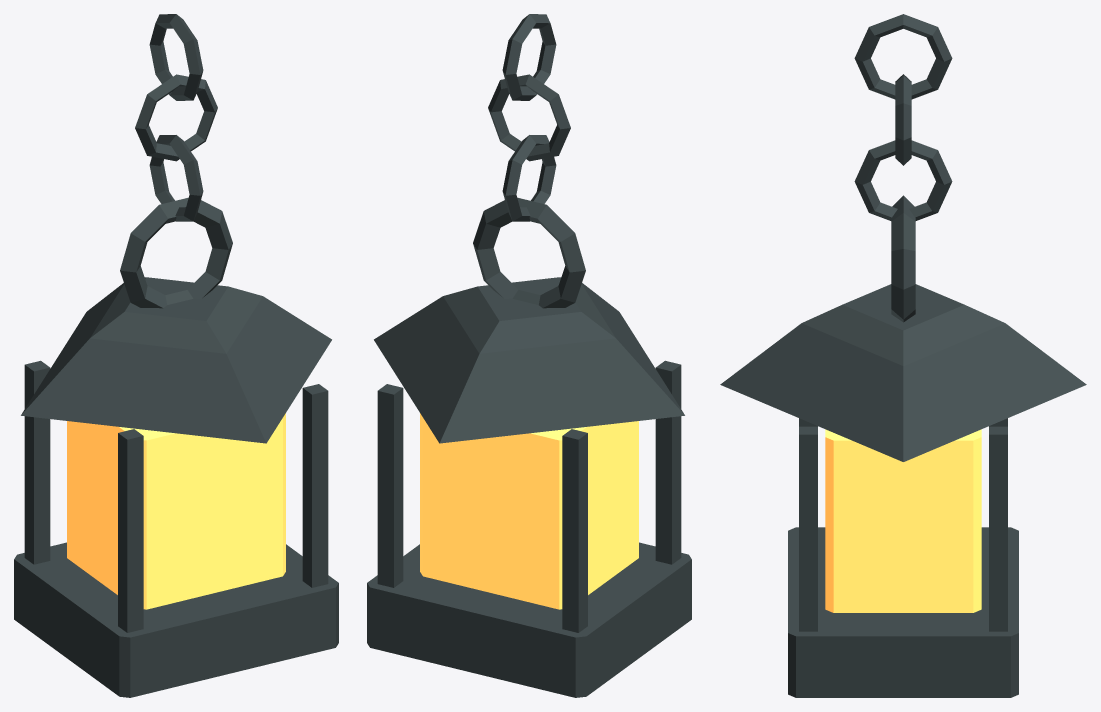
Rendered from lamp_hanging.glb.
The picture shows the model from 3 angles, left to right: view 1: azimuth 30°, elevation 25°; view 2: azimuth 150°, elevation 25°; view 3: azimuth 270°, elevation 25°; orthographic projection.
Visible parts, largest first — view 1: geometry, light; view 2: geometry, light; view 3: geometry, light.
Part boxes in pixels (<box>): geometry: <box>14,14,338,697</box>; light: <box>67,413,285,609</box>; geometry: <box>367,14,691,697</box>; light: <box>420,413,638,609</box>; geometry: <box>720,14,1086,697</box>; light: <box>825,429,981,612</box>.
Size of the model in its own units: 0.54 by 1.02 by 0.54.
